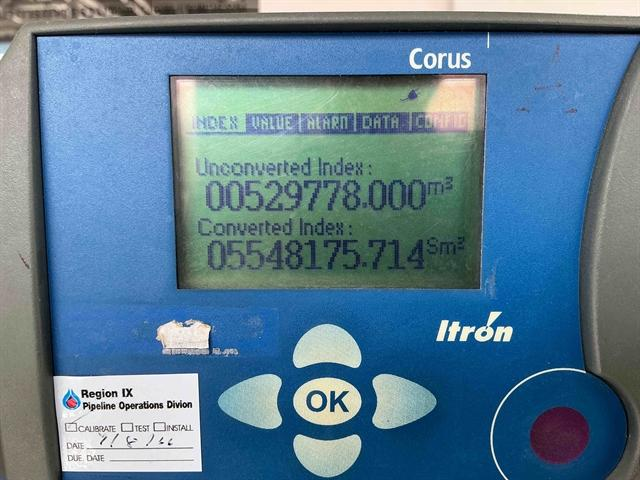digital_screen: (169, 74, 489, 289)
